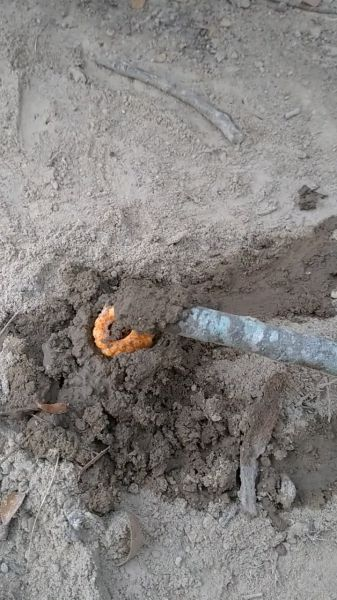eggs: (90, 300, 162, 361)
